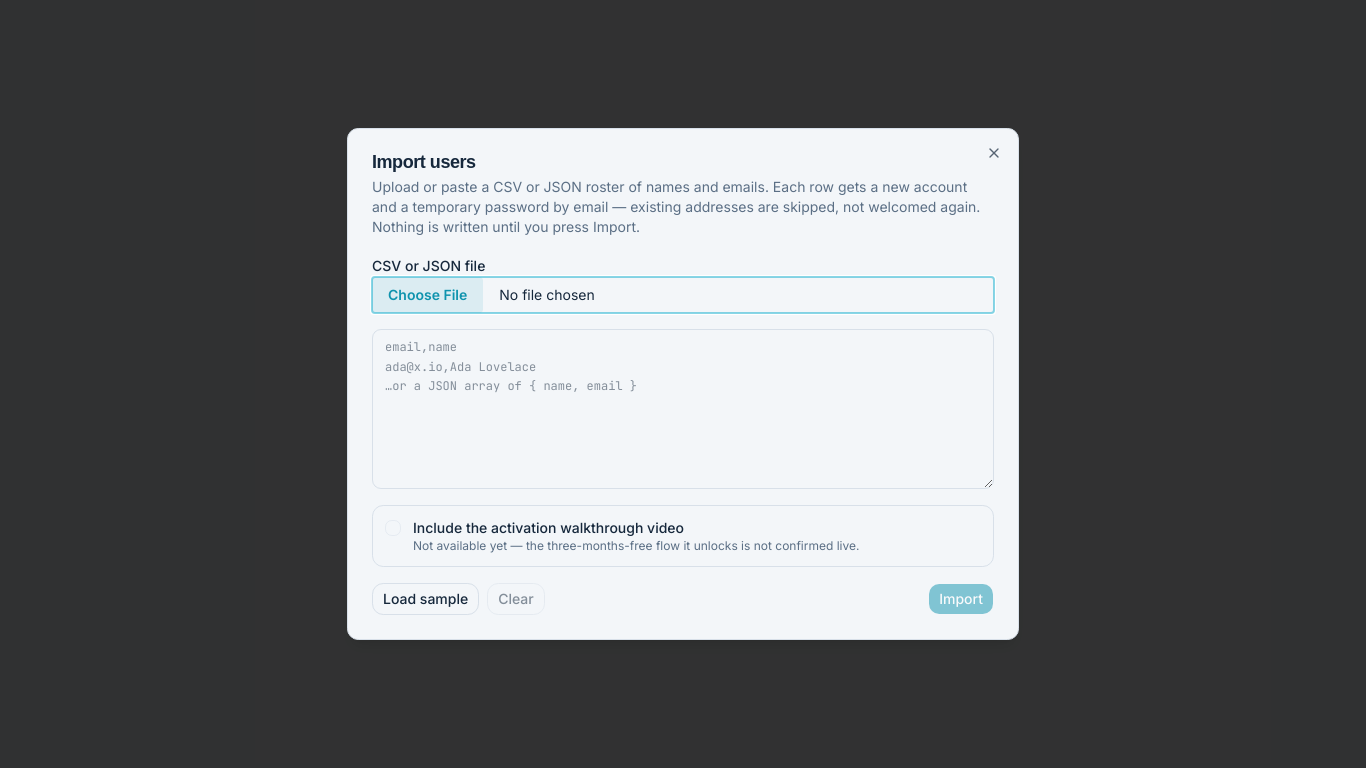
it: ImportUsersModal › loads the sample into the textarea and previews it without a blocking error
Click the button "Load sample" at (426, 599), box [372, 583, 479, 615]
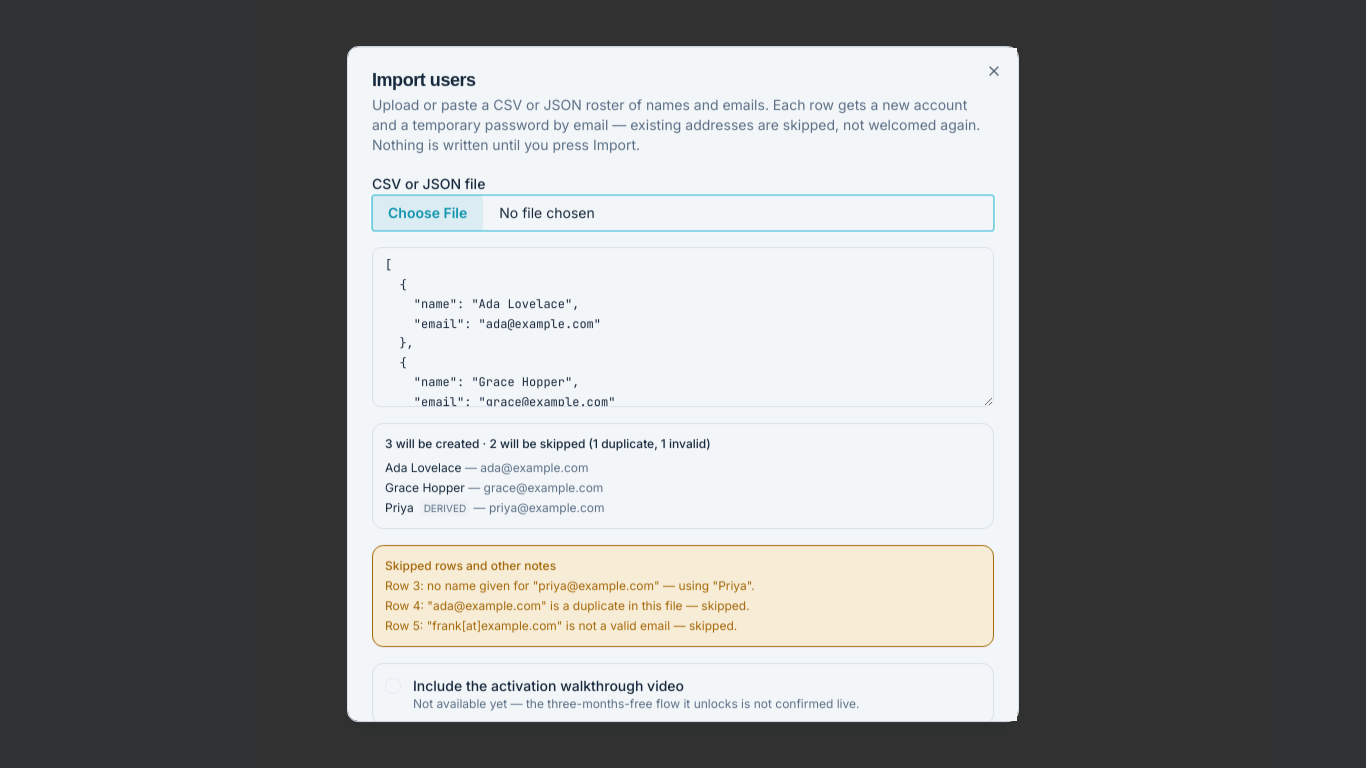
expect the text box named "roster csv or json" is not empty: met, box [372, 247, 994, 407]
expect the text "Skipped rows and other notes" is shown: met, box [385, 558, 556, 573]
